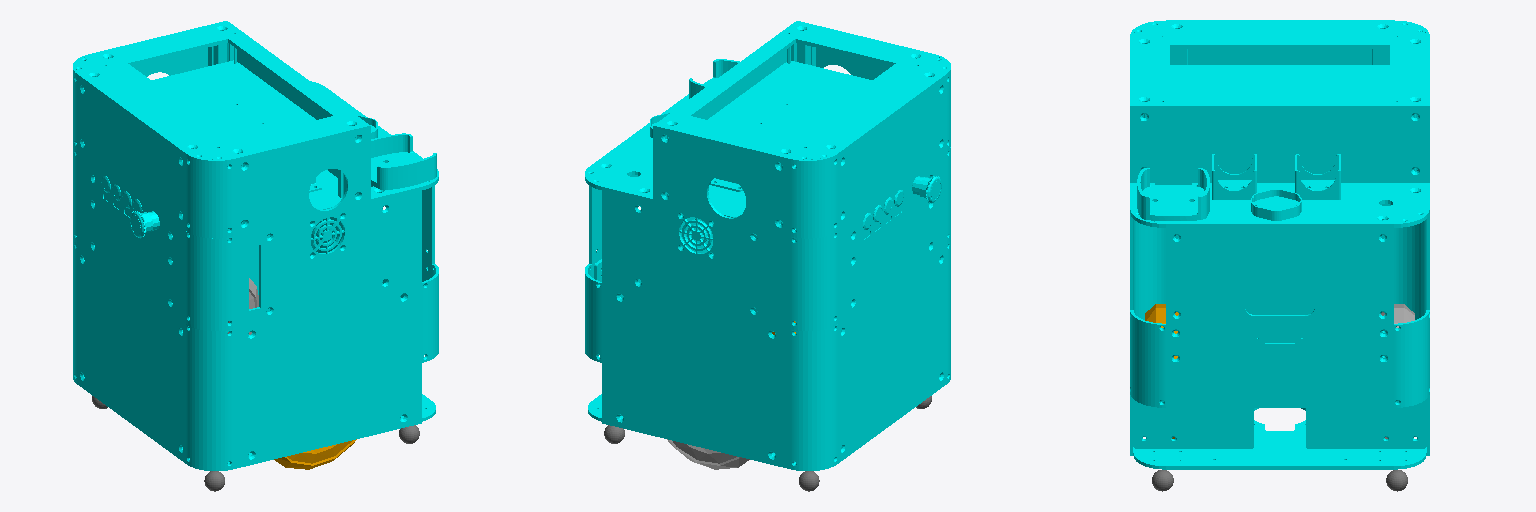
robot.urdf — warehouse_bot:
<?xml version="1.0" ?>
<!-- =================================================================================== -->
<!-- |    This document was autogenerated by xacro from warehouse_bot_sim.urdf.xacro   | -->
<!-- |    EDITING THIS FILE BY HAND IS NOT RECOMMENDED                                 | -->
<!-- =================================================================================== -->
<robot name="warehouse_bot">
  <gazebo reference="base_link">
    <material>Gazebo/DarkGrey</material>
  </gazebo>
  <!-- Wheel Properties -->
  <gazebo reference="wheel_left_link">
    <mu1>2000</mu1>
    <mu2>2000</mu2>
    <kp>500000.0</kp>
    <kd>1</kd>
    <minDepth>0.005</minDepth>
    <maxVel>0.1</maxVel>
    <material>Gazebo/White</material>
  </gazebo>
  <gazebo reference="wheel_right_link">
    <mu1>2000</mu1>
    <mu2>2000</mu2>
    <kp>500000.0</kp>
    <kd>1</kd>
    <minDepth>0.005</minDepth>
    <maxVel>0.1</maxVel>
    <material>Gazebo/White</material>
  </gazebo>
  <!-- caster wheel properties -->
  <gazebo reference="caster_top_left_link">
    <mu1>0.0</mu1>
    <mu2>0.0</mu2>
    <kp>1000000.0</kp>
    <kd>100.0</kd>
    <minDepth>0.005</minDepth>
    <maxVel>1.0</maxVel>
    <material>Gazebo/FlatBlack</material>
  </gazebo>
  <gazebo reference="caster_top_right_link">
    <mu1>0.0</mu1>
    <mu2>0.0</mu2>
    <kp>1000000.0</kp>
    <kd>100.0</kd>
    <minDepth>0.005</minDepth>
    <maxVel>1.0</maxVel>
    <material>Gazebo/FlatBlack</material>
  </gazebo>
  <gazebo reference="caster_bottom_left_link">
    <mu1>0.0</mu1>
    <mu2>0.0</mu2>
    <kp>1000000.0</kp>
    <kd>100.0</kd>
    <minDepth>0.005</minDepth>
    <maxVel>1.0</maxVel>
    <material>Gazebo/FlatBlack</material>
  </gazebo>
  <gazebo reference="caster_bottom_right_link">
    <mu1>0.0</mu1>
    <mu2>0.0</mu2>
    <kp>1000000.0</kp>
    <kd>100.0</kd>
    <minDepth>0.005</minDepth>
    <maxVel>1.0</maxVel>
    <material>Gazebo/FlatBlack</material>
  </gazebo>
  <!-- simulated lidar -->
  <gazebo reference="base_laser">
    <material>Gazebo/FlatBlack</material>
    <sensor name="hls_lfcd_lds" type="ray">
      <always_on>true</always_on>
      <visualize>true</visualize>
      <pose>0 0 0 0 0 0</pose>
      <update_rate>15</update_rate>
      <ray>
        <scan>
          <horizontal>
            <samples>541</samples>
            <resolution>1</resolution>
            <min_angle>-1.57</min_angle>
            <max_angle>1.57</max_angle>
          </horizontal>
        </scan>
        <range>
          <min>0.01</min>
          <max>25.0</max>
          <resolution>0.005000</resolution>
        </range>
        <noise>
          <type>gaussian</type>
          <mean>0.0</mean>
          <stddev>0.01</stddev>
        </noise>
      </ray>
      <plugin filename="libgazebo_ros_ray_sensor.so" name="bot_laserscan">
        <ros>
          <remapping>~/out:=scan</remapping>
        </ros>
        <output_type>sensor_msgs/LaserScan</output_type>
        <frame_name>base_laser</frame_name>
      </plugin>
    </sensor>
  </gazebo>
  <!-- simulated motor controller -->
  <gazebo>
    <plugin filename="libgazebo_ros_diff_drive.so" name="bot_motor_controller">
      <update_rate>100</update_rate>
      <!-- wheels -->
      <left_joint>wheel_left_joint</left_joint>
      <right_joint>wheel_right_joint</right_joint>
      <!-- kinematics -->
      <wheel_separation>0.319948</wheel_separation>
      <wheel_diameter>0.197</wheel_diameter>
      <!-- limits -->
      <max_wheel_torque>20</max_wheel_torque>
      <max_wheel_acceleration>8.767</max_wheel_acceleration>
      <command_topic>cmd_vel</command_topic>
      <!-- output -->
      <publish_odom>true</publish_odom>
      <publish_odom_tf>true</publish_odom_tf>
      <publish_wheel_tf>false</publish_wheel_tf>
      <odometry_topic>odom</odometry_topic>
      <odometry_frame>odom</odometry_frame>
      <robot_base_frame>base_footprint</robot_base_frame>
    </plugin>
  </gazebo>
  <gazebo>
    <plugin filename="libgazebo_ros_joint_state_publisher.so" name="warehousebot_joint_state">
      <ros>
        <!-- <namespace>/tb3</namespace> -->
        <remapping>~/out:=joint_states</remapping>
      </ros>
      <update_rate>100</update_rate>
      <joint_name>wheel_left_joint</joint_name>
      <joint_name>wheel_right_joint</joint_name>
    </plugin>
  </gazebo>
  <material name="aluminum">
    <color rgba="0.5 0.5 0.5 1"/>
  </material>
  <material name="plastic">
    <color rgba="0.1 0.1 0.1 1"/>
  </material>
  <!-- camera body, with origin at bottom screw mount -->
  <joint name="camera_joint" type="fixed">
    <origin rpy="0 0 0" xyz="0.25 0 0.254"/>
    <parent link="base_link"/>
    <child link="camera_bottom_screw_frame"/>
  </joint>
  <link name="camera_bottom_screw_frame"/>
  <joint name="camera_link_joint" type="fixed">
    <origin rpy="0 0 0" xyz="0.010600000000000002 0.0175 0.0125"/>
    <parent link="camera_bottom_screw_frame"/>
    <child link="camera_link"/>
  </joint>
  <link name="camera_link">
    <visual>
      <!-- the mesh origin is at front plate in between the two infrared camera axes -->
      <origin rpy="1.5707963267948966 0 1.5707963267948966" xyz="0.0043 -0.0175 0"/>
      <geometry>
        <!-- <box size="${d435_cam_width} ${d435_cam_height} ${d435_cam_depth}"/> -->
        <mesh filename="package://warehousebot_simulation/meshes/d435.dae"/>
      </geometry>
    </visual>
  </link>
  <!-- camera depth joints and links -->
  <joint name="camera_depth_joint" type="fixed">
    <origin rpy="0 0 0" xyz="0 0 0"/>
    <parent link="camera_link"/>
    <child link="camera_depth_frame"/>
  </joint>
  <link name="camera_depth_frame"/>
  <joint name="camera_depth_optical_joint" type="fixed">
    <origin rpy="-1.5707963267948966 0 -1.5707963267948966" xyz="0 0 0"/>
    <parent link="camera_depth_frame"/>
    <child link="camera_depth_optical_frame"/>
  </joint>
  <link name="camera_depth_optical_frame"/>
  <!-- camera left IR joints and links -->
  <joint name="camera_infra1_joint" type="fixed">
    <origin rpy="0 0 0" xyz="0 0.0 0"/>
    <parent link="camera_link"/>
    <child link="camera_infra1_frame"/>
  </joint>
  <link name="camera_infra1_frame"/>
  <joint name="camera_infra1_optical_joint" type="fixed">
    <origin rpy="-1.5707963267948966 0 -1.5707963267948966" xyz="0 0 0"/>
    <parent link="camera_infra1_frame"/>
    <child link="camera_infra1_optical_frame"/>
  </joint>
  <link name="camera_infra1_optical_frame"/>
  <!-- camera right IR joints and links -->
  <joint name="camera_infra2_joint" type="fixed">
    <origin rpy="0 0 0" xyz="0 -0.05 0"/>
    <parent link="camera_link"/>
    <child link="camera_infra2_frame"/>
  </joint>
  <link name="camera_infra2_frame"/>
  <joint name="camera_infra2_optical_joint" type="fixed">
    <origin rpy="-1.5707963267948966 0 -1.5707963267948966" xyz="0 0 0"/>
    <parent link="camera_infra2_frame"/>
    <child link="camera_infra2_optical_frame"/>
  </joint>
  <link name="camera_infra2_optical_frame"/>
  <!-- camera color joints and links -->
  <joint name="camera_color_joint" type="fixed">
    <origin rpy="0 0 0" xyz="0 0.015 0"/>
    <parent link="camera_link"/>
    <child link="camera_color_frame"/>
  </joint>
  <link name="camera_color_frame"/>
  <joint name="camera_color_optical_joint" type="fixed">
    <origin rpy="-1.5707963267948966 0 -1.5707963267948966" xyz="0 0 0"/>
    <parent link="camera_color_frame"/>
    <child link="camera_color_optical_frame"/>
  </joint>
  <link name="camera_color_optical_frame"/>
  <link name="caster_top_left_link">
    <visual>
      <origin rpy="0 0 0" xyz="0 0 0"/>
      <geometry>
        <sphere radius="0.015"/>
      </geometry>
      <material name="grey">
        <color rgba="0.5 0.5 0.5 1.0"/>
      </material>
    </visual>
    <collision>
      <origin rpy="0 0 0" xyz="0 0 0"/>
      <geometry>
        <sphere radius="0.015"/>
      </geometry>
    </collision>
    <inertial>
      <origin xyz="0 0 0"/>
      <mass value="0.003"/>
      <inertia ixx="0.001" ixy="0.0" ixz="0.0" iyy="0.001" iyz="0.0" izz="0.001"/>
    </inertial>
  </link>
  <joint name="caster_top_left_joint" type="fixed">
    <parent link="base_link"/>
    <child link="caster_top_left_link"/>
    <origin rpy="0.0 0.0 0.0" xyz="0.16 0.16 -0.035"/>
  </joint>
  <link name="caster_bottom_left_link">
    <visual>
      <origin rpy="0 0 0" xyz="0 0 0"/>
      <geometry>
        <sphere radius="0.015"/>
      </geometry>
      <material name="grey">
        <color rgba="0.5 0.5 0.5 1.0"/>
      </material>
    </visual>
    <collision>
      <origin rpy="0 0 0" xyz="0 0 0"/>
      <geometry>
        <sphere radius="0.015"/>
      </geometry>
    </collision>
    <inertial>
      <origin xyz="0 0 0"/>
      <mass value="0.003"/>
      <inertia ixx="0.001" ixy="0.0" ixz="0.0" iyy="0.001" iyz="0.0" izz="0.001"/>
    </inertial>
  </link>
  <joint name="caster_bottom_left_joint" type="fixed">
    <parent link="base_link"/>
    <child link="caster_bottom_left_link"/>
    <origin rpy="0.0 0.0 0.0" xyz="-0.16 0.16 -0.035"/>
  </joint>
  <link name="caster_bottom_right_link">
    <visual>
      <origin rpy="0 0 0" xyz="0 0 0"/>
      <geometry>
        <sphere radius="0.015"/>
      </geometry>
      <material name="grey">
        <color rgba="0.5 0.5 0.5 1.0"/>
      </material>
    </visual>
    <collision>
      <origin rpy="0 0 0" xyz="0 0 0"/>
      <geometry>
        <sphere radius="0.015"/>
      </geometry>
    </collision>
    <inertial>
      <origin xyz="0 0 0"/>
      <mass value="0.003"/>
      <inertia ixx="0.001" ixy="0.0" ixz="0.0" iyy="0.001" iyz="0.0" izz="0.001"/>
    </inertial>
  </link>
  <joint name="caster_bottom_right_joint" type="fixed">
    <parent link="base_link"/>
    <child link="caster_bottom_right_link"/>
    <origin rpy="0.0 0.0 0.0" xyz="-0.16 -0.16 -0.035"/>
  </joint>
  <link name="caster_top_right_link">
    <visual>
      <origin rpy="0 0 0" xyz="0 0 0"/>
      <geometry>
        <sphere radius="0.015"/>
      </geometry>
      <material name="grey">
        <color rgba="0.5 0.5 0.5 1.0"/>
      </material>
    </visual>
    <collision>
      <origin rpy="0 0 0" xyz="0 0 0"/>
      <geometry>
        <sphere radius="0.015"/>
      </geometry>
    </collision>
    <inertial>
      <origin xyz="0 0 0"/>
      <mass value="0.003"/>
      <inertia ixx="0.001" ixy="0.0" ixz="0.0" iyy="0.001" iyz="0.0" izz="0.001"/>
    </inertial>
  </link>
  <joint name="caster_top_right_joint" type="fixed">
    <parent link="base_link"/>
    <child link="caster_top_right_link"/>
    <origin rpy="0.0 0.0 0.0" xyz="0.16 -0.16 -0.035"/>
  </joint>
  <link name="base_laser">
    <visual>
      <geometry>
        <mesh filename="package://warehousebot_simulation/meshes/sick_tim_571.stl"/>
      </geometry>
      <!-- the origin tag defines the transform of the model with respect to its own tf frame -->
      <origin rpy="0 0 0" xyz="0 0 0"/>
    </visual>
    <inertial>
      <origin xyz="-0.169 0 0"/>
      <mass value="0.003"/>
      <inertia ixx="0.0000012" ixy="0.0" ixz="0.0" iyy="0.0000012" iyz="0.0" izz="0.0000012"/>
    </inertial>
  </link>
  <link name="wheel_left_link">
    <visual>
      <geometry>
        <mesh filename="package://warehousebot_simulation/meshes/left_wheel.stl" scale="0.01 0.01 0.01"/>
      </geometry>
      <origin rpy="0 0 0" xyz="0 0 0"/>
    </visual>
    <collision>
      <origin rpy="0 0 0" xyz="0 0 0"/>
      <geometry>
        <cylinder length="0.05" radius="0.0985"/>
      </geometry>
    </collision>
    <inertial>
      <origin xyz="0 0 0"/>
      <mass value="1"/>
      <inertia ixx="0.00282485" ixy="-1.41127e-06" ixz="1.32139e-08" iyy="0.00283002" iyz="2.09836e-07" izz="0.00515906"/>
    </inertial>
  </link>
  <link name="wheel_right_link">
    <visual>
      <geometry>
        <mesh filename="package://warehousebot_simulation/meshes/right_wheel.stl" scale="0.01 0.01 0.01"/>
      </geometry>
      <origin rpy="0 0 0" xyz="0 0 0"/>
    </visual>
    <collision>
      <origin rpy="0 0 0" xyz="0 0 0"/>
      <geometry>
        <cylinder length="0.05" radius="0.0985"/>
      </geometry>
    </collision>
    <inertial>
      <origin xyz="0 0 0"/>
      <mass value="1"/>
      <inertia ixx="0.00282485" ixy="-1.41127e-06" ixz="1.32139e-08" iyy="0.00283002" iyz="2.09836e-07" izz="0.00515906"/>
    </inertial>
  </link>
  <link name="base_footprint"/>
  <link name="base_link">
    <visual>
      <geometry>
        <mesh filename="package://warehousebot_simulation/meshes/bot_chassis.stl" scale="0.01 0.01 0.01"/>
      </geometry>
      <material name="Cyan">
        <color rgba="0 1.0 1.0 1.0"/>
      </material>
      <origin rpy="0 0 0" xyz="0 0 0"/>
    </visual>
    <collision name="base_collision">
      <geometry>
        <mesh filename="package://warehousebot_simulation/meshes/bot_chassis.stl" scale="0.01 0.01 0.01"/>
      </geometry>
      <origin rpy="0 0 0" xyz="0 0 0"/>
    </collision>
    <inertial>
      <mass value="20"/>
      <origin rpy="0 0 0" xyz="0 0 0 "/>
      <inertia ixx="0.32" ixy="0" ixz="0" iyy="0.32" iyz="0" izz="0.32"/>
    </inertial>
  </link>
  <joint name="base_footprint_to_base_link" type="fixed">
    <parent link="base_footprint"/>
    <child link="base_link"/>
    <origin xyz="0.0 0.0 0.05"/>
  </joint>
  `

  
  <joint name="wheel_left_joint" type="continuous">
    <parent link="base_link"/>
    <child link="wheel_left_link"/>
    <origin rpy="-1.57 0 0" xyz="0 0.159974 0.0485"/>
    <axis xyz="0 0 1"/>
  </joint>
  <joint name="wheel_right_joint" type="continuous">
    <parent link="base_link"/>
    <child link="wheel_right_link"/>
    <origin rpy="-1.57 0 0" xyz="0 -0.159974 0.0485"/>
    <axis xyz="0 0 1"/>
  </joint>
  <joint name="base_link_to_laser_front" type="fixed">
    <parent link="base_link"/>
    <child link="base_laser"/>
    <origin rpy="3.142 0.0 0.0" xyz="0.169 0.0 0.035856"/>
  </joint>
</robot>

--- What the picture shows (computed from the rendered views, not written in the file) ---
The picture shows the robot from 3 angles, left to right: view 1: azimuth 30°, elevation 25°; view 2: azimuth 150°, elevation 25°; view 3: azimuth 270°, elevation 25°; orthographic projection.
Model warehouse_bot with 19 links and 18 joints (2 continuous, 16 fixed), rooted at base_footprint, posed all joints at 0.
Links seen in each view (by area): view 1: base_link, wheel_right_link; view 2: base_link, wheel_left_link; view 3: base_link.
Link boxes in pixels (x1,y1,x2,y2): base_link: [73, 21, 438, 470]; wheel_right_link: [274, 439, 356, 469]; base_link: [585, 21, 950, 470]; wheel_left_link: [667, 439, 749, 469]; base_link: [1130, 20, 1429, 469].
Bounding box of the posed robot: 0.4413 × 0.409 × 0.538 m (x, y, z).
3 mesh visuals loaded from 5 distinct referenced files (3 binary STL); not drawn: 2 (reference not matched to a file when rendering).
